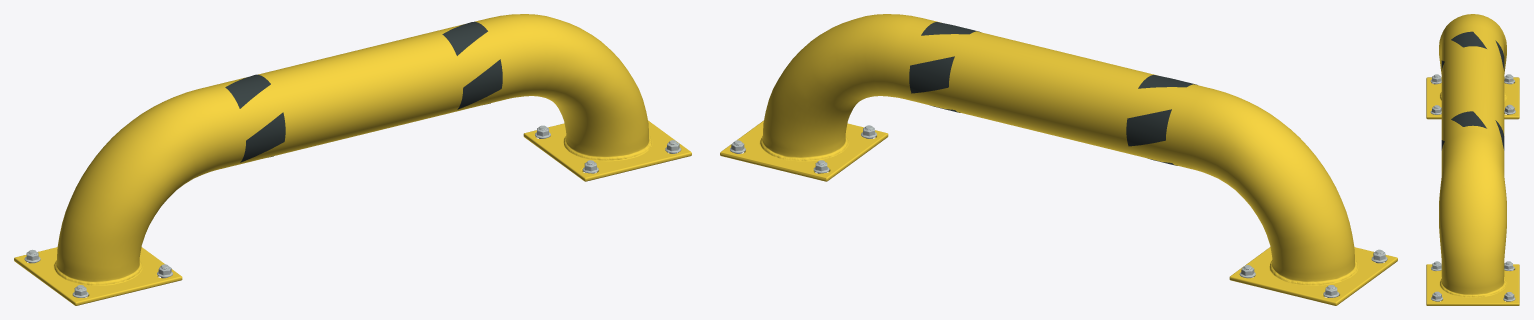
File: machineGuard_a01.glb
3 renders of one model, left to right at view 1: azimuth 30°, elevation 25°; view 2: azimuth 150°, elevation 25°; view 3: azimuth 270°, elevation 25°, orthographic. The views are drawn at different scales.
Size of the model in its own units: 0.9769 by 0.231 by 0.17.
